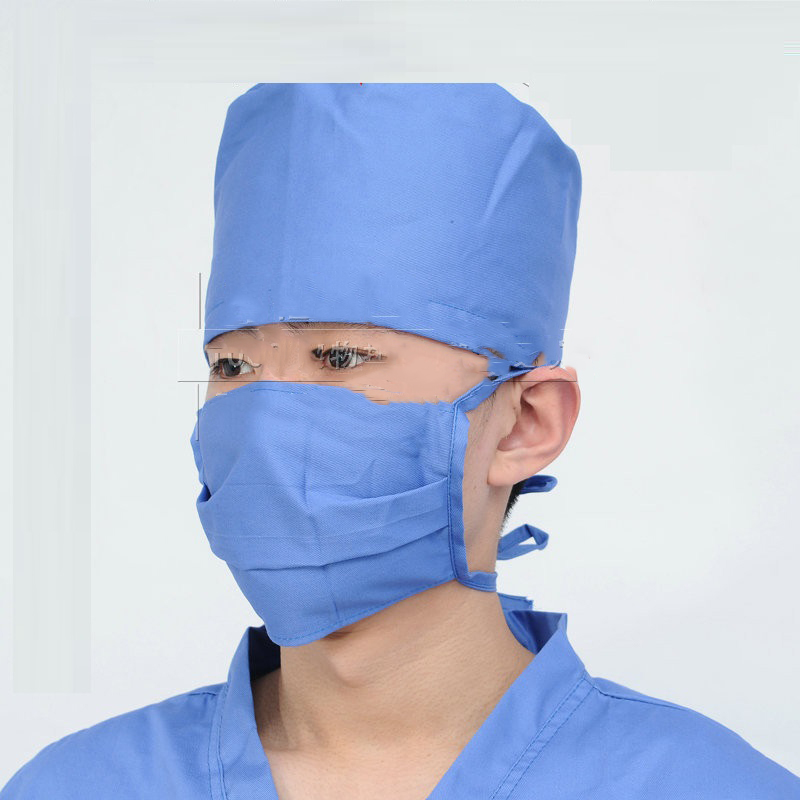face_mask: (202, 249, 489, 631)
